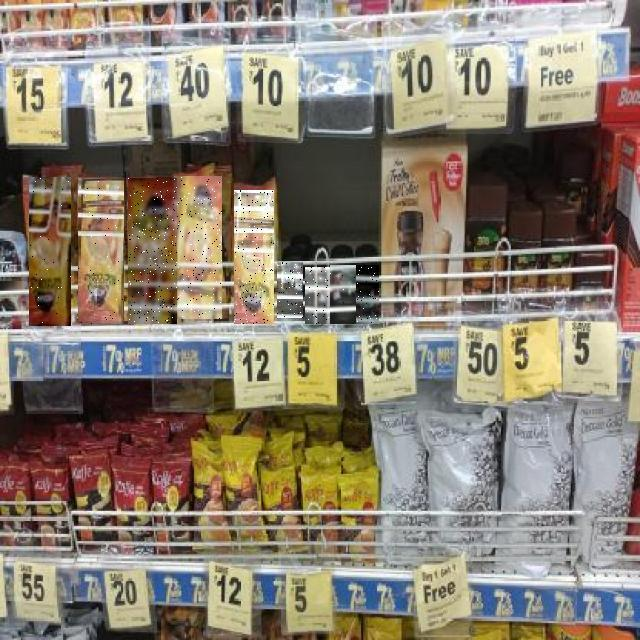Coffee: (128, 179, 177, 325), (175, 176, 223, 319), (78, 178, 124, 324), (29, 177, 71, 326), (234, 190, 274, 324), (330, 265, 356, 324), (277, 262, 303, 318), (305, 267, 330, 324), (356, 265, 379, 324)
